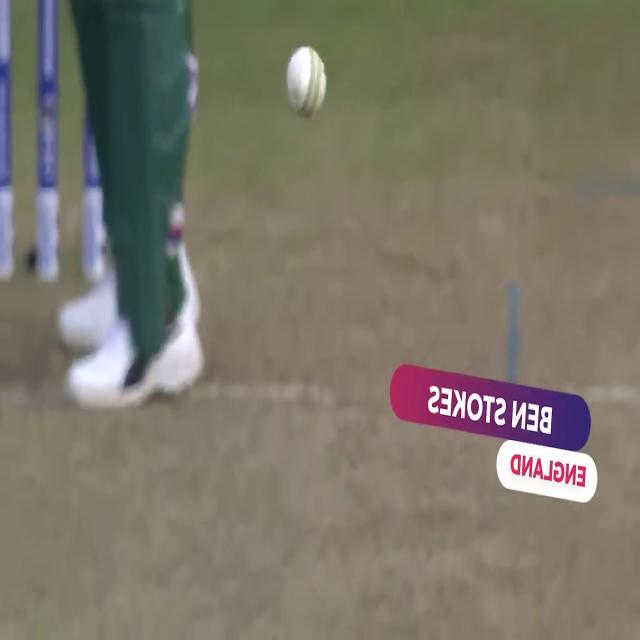ball: (282, 39, 334, 123)
